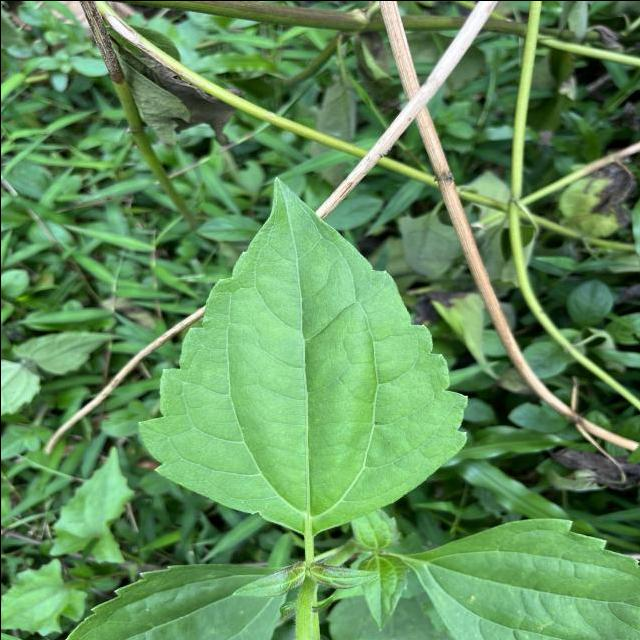Chromolaena odorata: (128, 169, 474, 538)
